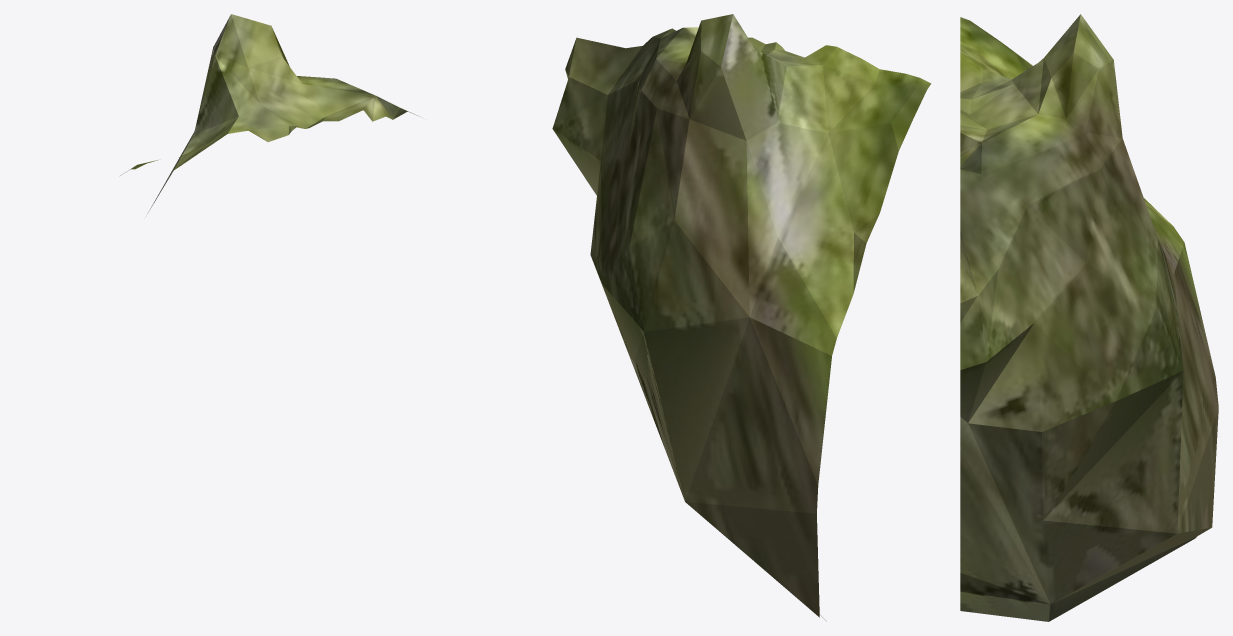
3 renders of one model, left to right at view 1: azimuth 30°, elevation 25°; view 2: azimuth 150°, elevation 25°; view 3: azimuth 270°, elevation 25°, orthographic. The views are drawn at different scales.
Bounding box in the file's own units: 1.22 × 1.69 × 0.6557.
1 material, 1 textured.
